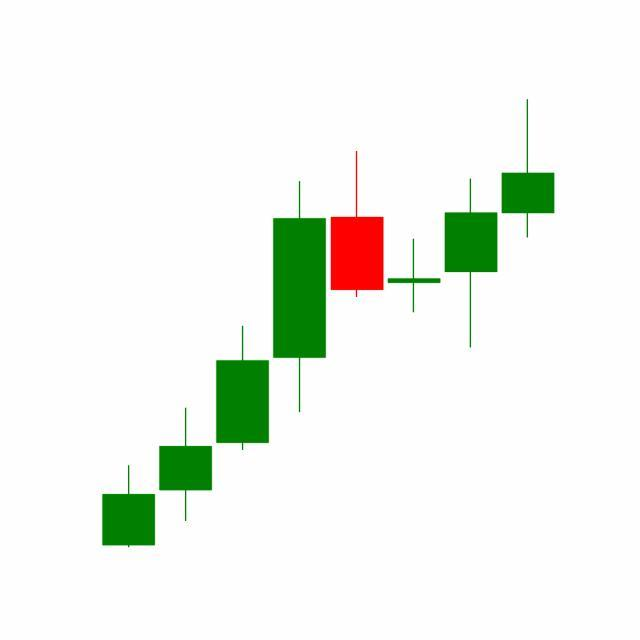Three Inside Up-Down: (328, 149, 500, 350)
